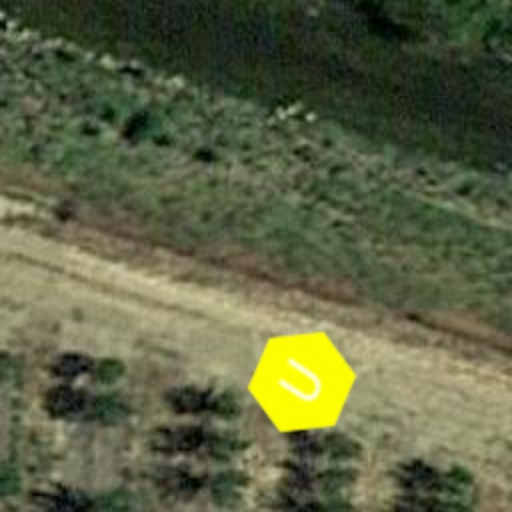hexagon: (228, 308, 376, 456)
